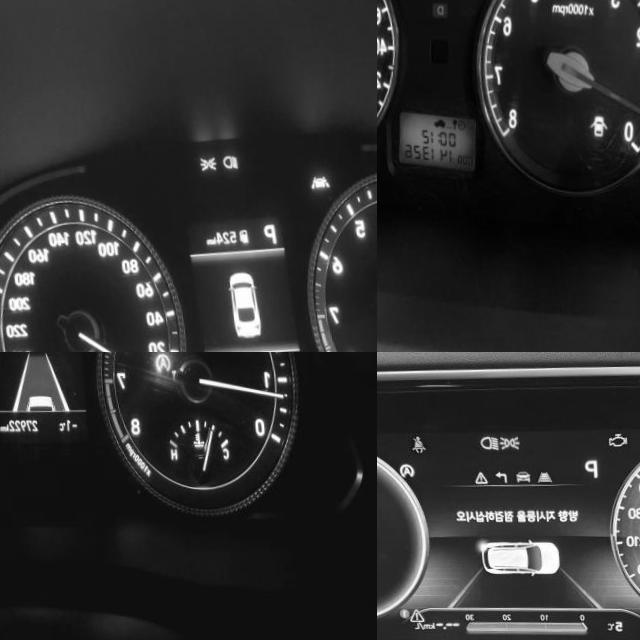Central Warning lamp: (472, 469, 487, 483)
Doors: (585, 111, 605, 135)
LaneCenteringOff: (534, 469, 551, 482)
Low beam: (478, 433, 498, 450), (221, 152, 238, 169)
SideLamp: (498, 433, 520, 450), (198, 153, 217, 170)
